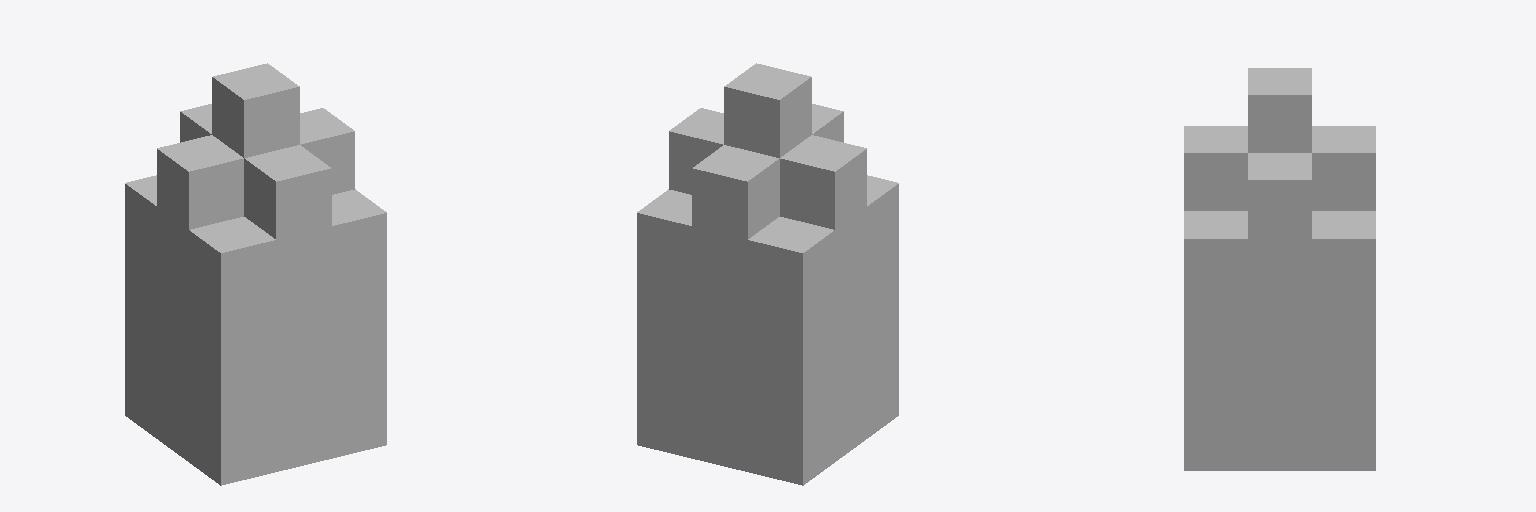
Rendered from Bunker - Free Sample-12-Bottle_Blue-11.obj.
The picture shows the model from 3 angles: view 1: azimuth 30°, elevation 25°; view 2: azimuth 150°, elevation 25°; view 3: azimuth 270°, elevation 25°; orthographic projection.
Parts seen in each view (by area): view 1: Bottle_Blue-11; view 2: Bottle_Blue-11; view 3: Bottle_Blue-11.
Boxes of the visible parts, <box> form: Bottle_Blue-11: <box>125,63,386,485</box>; Bottle_Blue-11: <box>637,63,898,485</box>; Bottle_Blue-11: <box>1184,68,1375,470</box>.
Bounding box in the file's own units: 0.06 × 0.12 × 0.06.